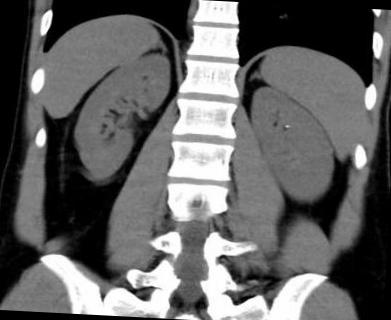Tas_Var: (284, 123, 292, 129)
